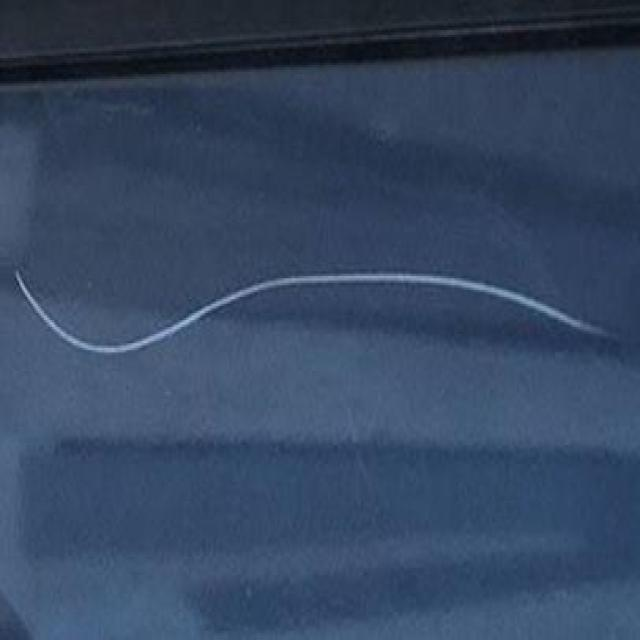scratch: (9, 253, 620, 364)
